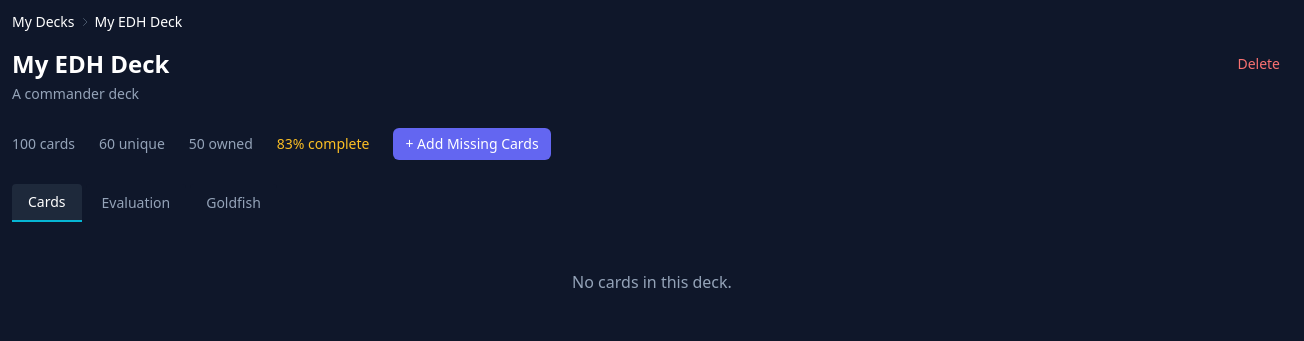
DeckView inline edit › pressing Escape in description reverts and exits edit mode
Click the element with test id "deck-description" at (76, 94), box 12,84 -> 139,103
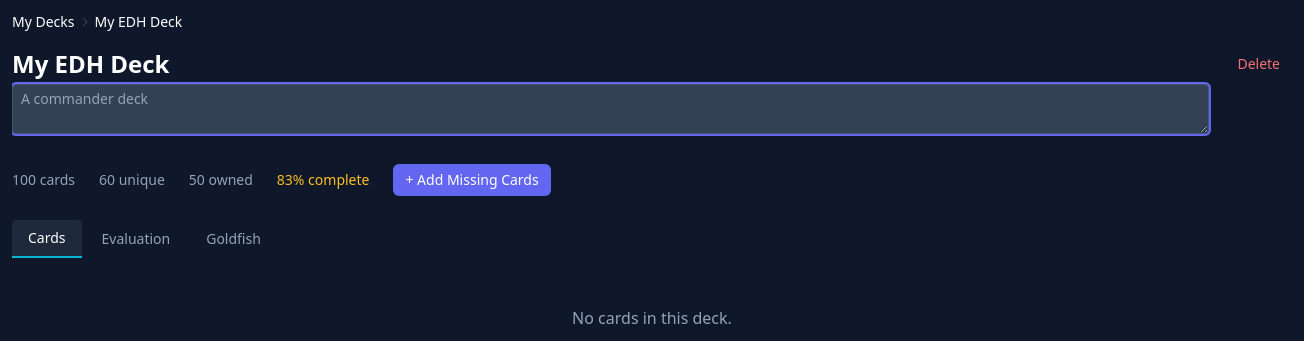
Replace the text in the text box with test id "deck-description-input" with "Changed" at (611, 109), box 12,84 -> 1209,134
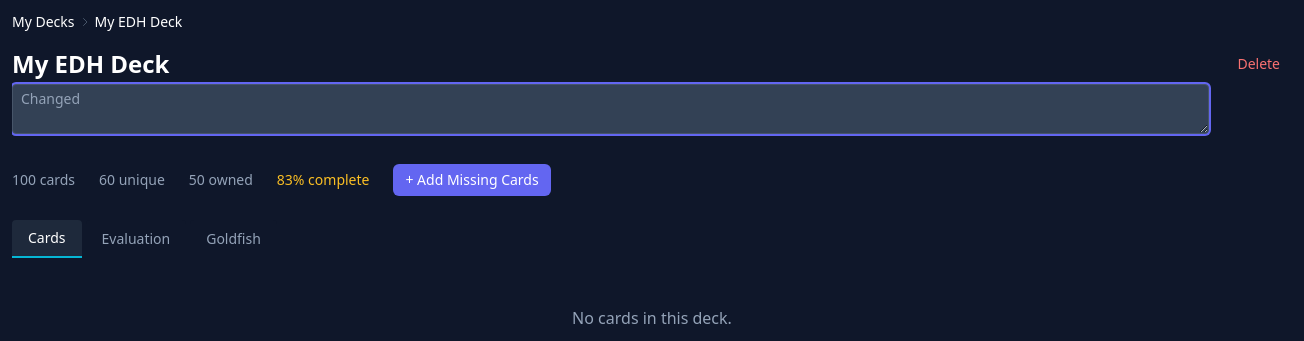
Press Escape in the text box with test id "deck-description-input", box 12,84 -> 1209,134
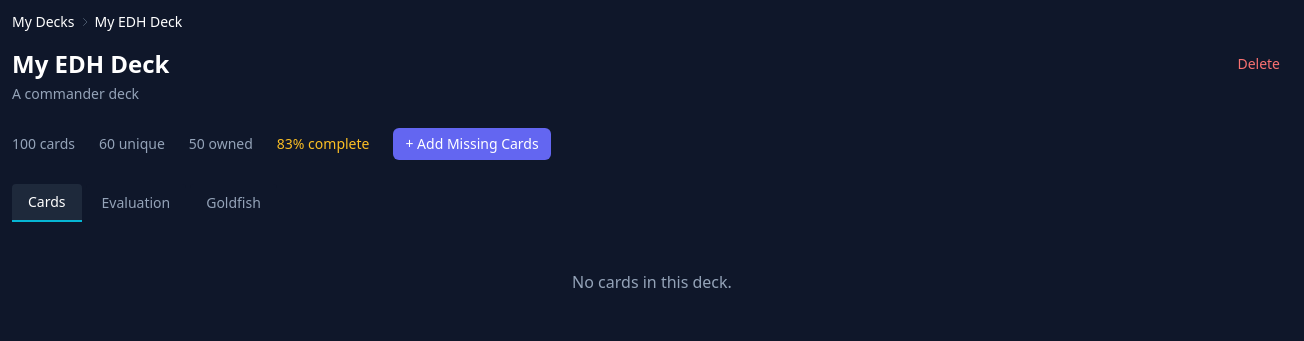
Expected: the text box with test id "deck-description-input" is gone
Expected: the element with test id "deck-description" reads "A commander deck", 12,84 -> 139,103
